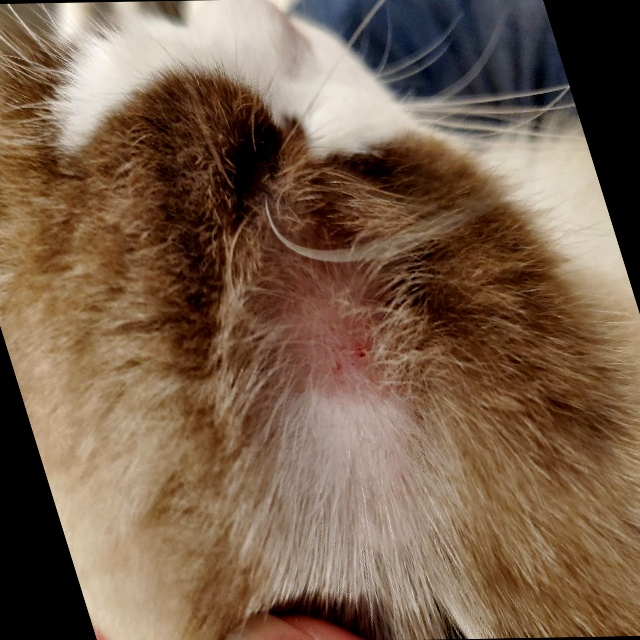ringworm: (231, 286, 403, 400)
